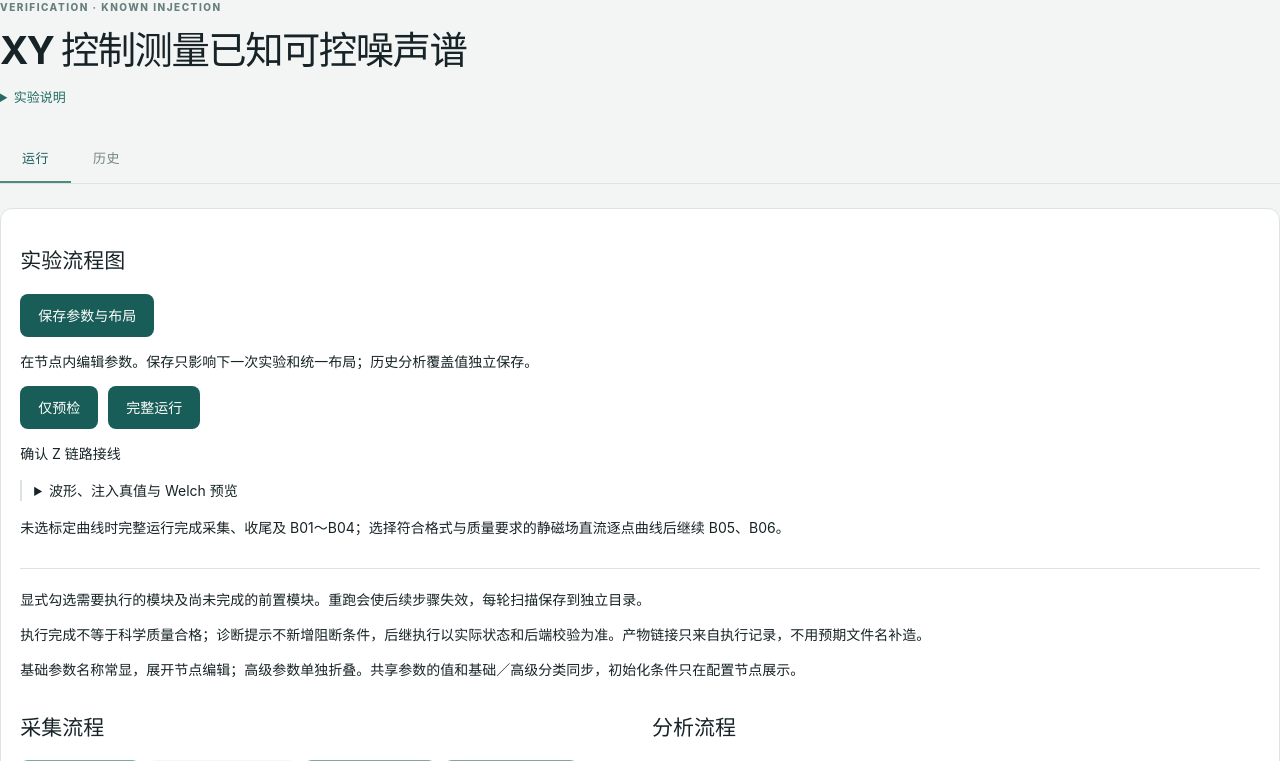
从真实路由进入双 Tab，预检失败不启动采集
The width and height of the screenshot is (1280, 761).
Expected: the number of tabs is 2, [0, 137, 71, 183]; [71, 137, 142, 183]
Click the button "完整运行": click(154, 408) [108, 386, 200, 429]
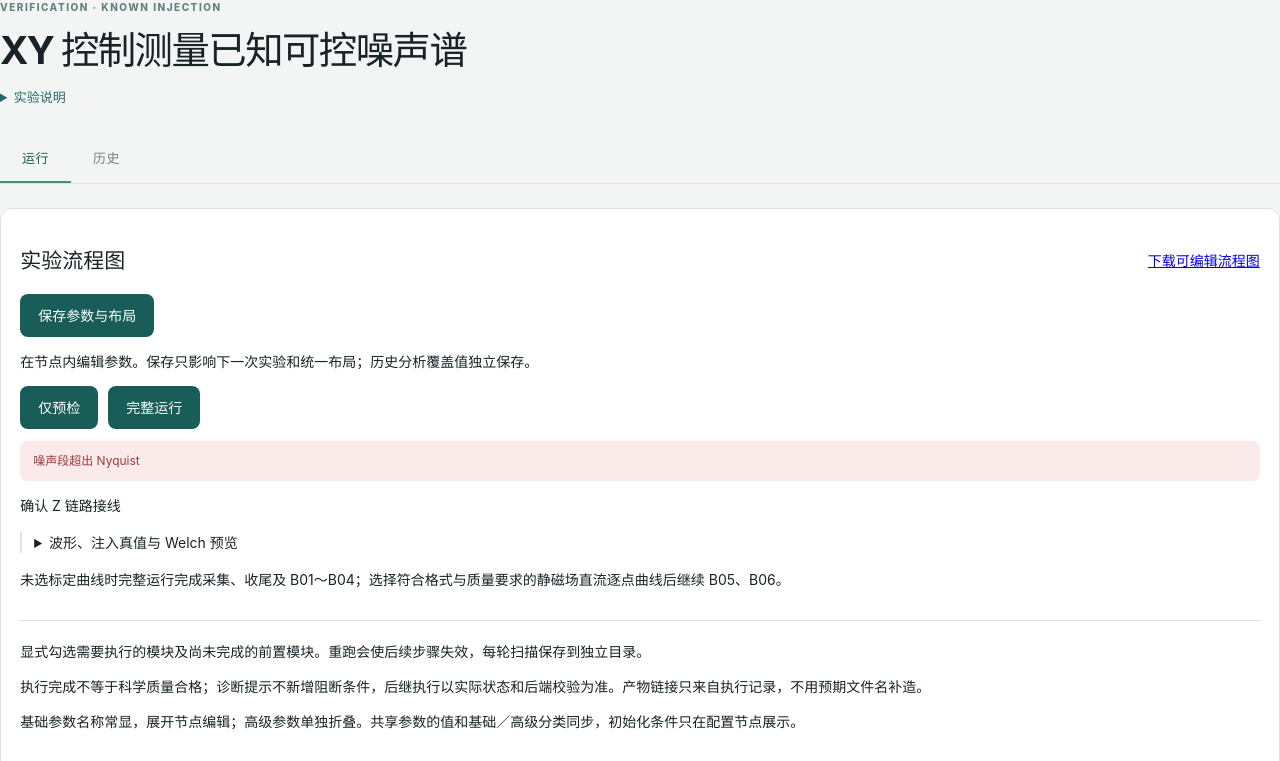
Result: the text "噪声段超出 Nyquist" is shown at [20, 441, 1260, 481]
